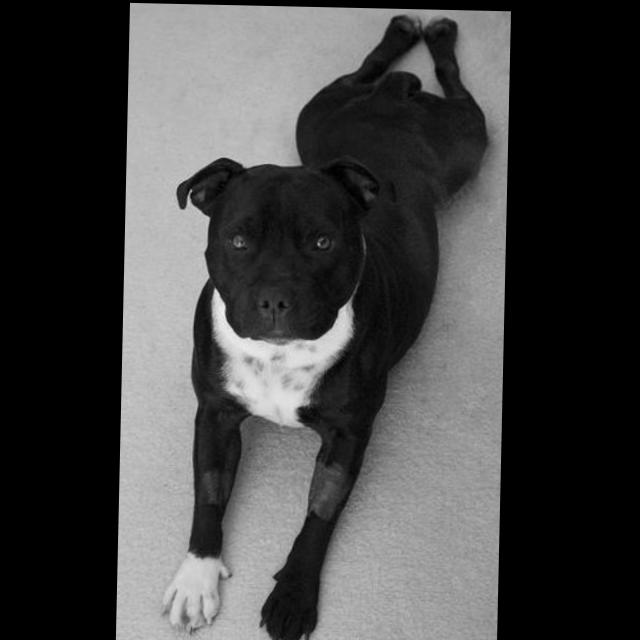staffford: (161, 6, 492, 640)
